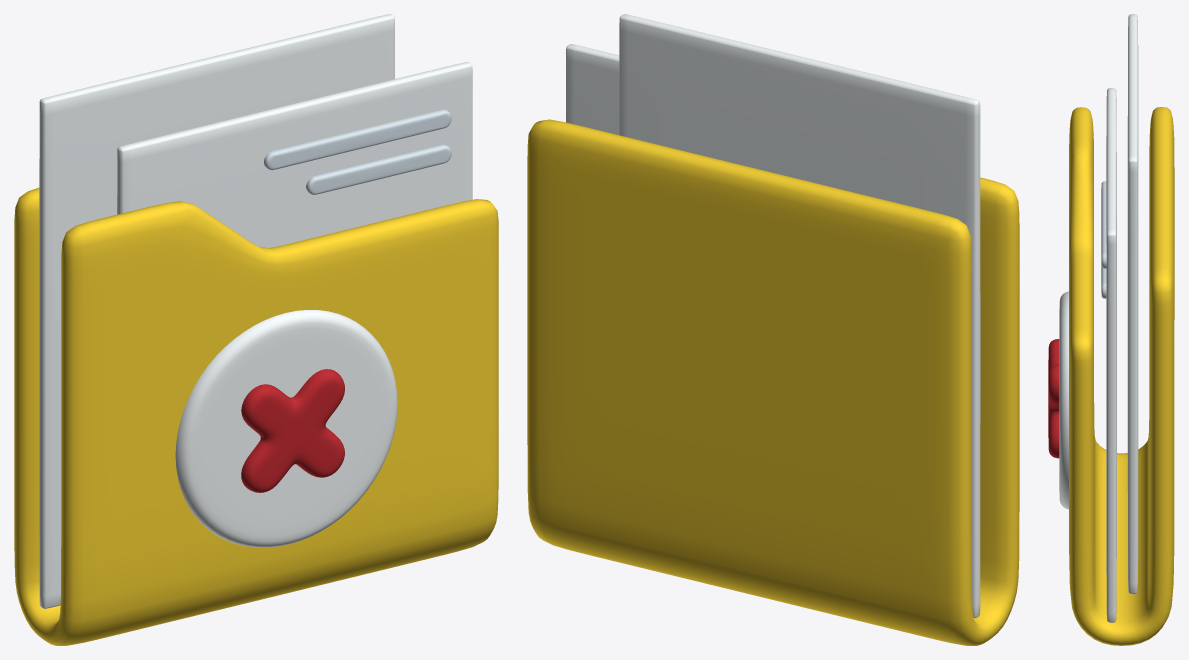
File: iconDelete.glb
3 views of the same model, side by side, from view 1: azimuth 30°, elevation 25°; view 2: azimuth 150°, elevation 25°; view 3: azimuth 270°, elevation 25° (orthographic). The views are drawn at different scales.
Parts seen in each view (by area): view 1: Plane.020, Plane.018, Plane.019, Cylinder.017, Plane.017, Cylinder.016, Cylinder.015; view 2: Plane.020, Plane.018, Plane.019; view 3: Plane.020, Plane.018, Plane.019, Cylinder.017, Plane.017, Cylinder.016.
Boxes of the visible parts, box(x1,y1,x2,y2) form: Plane.020: box(14, 187, 498, 645); Plane.018: box(39, 14, 394, 608); Plane.019: box(117, 62, 472, 247); Cylinder.017: box(175, 310, 397, 547); Plane.017: box(241, 369, 344, 492); Cylinder.016: box(264, 109, 451, 170); Cylinder.015: box(306, 144, 451, 194); Plane.020: box(527, 119, 1019, 645); Plane.018: box(619, 14, 980, 618); Plane.019: box(566, 44, 619, 134); Plane.020: box(1069, 107, 1174, 645); Plane.018: box(1127, 14, 1138, 594); Plane.019: box(1106, 88, 1116, 622); Cylinder.017: box(1059, 291, 1068, 509); Plane.017: box(1048, 339, 1059, 458); Cylinder.016: box(1101, 181, 1106, 268).
Size of the model in its own units: 3.99 by 4.74 by 1.18.
